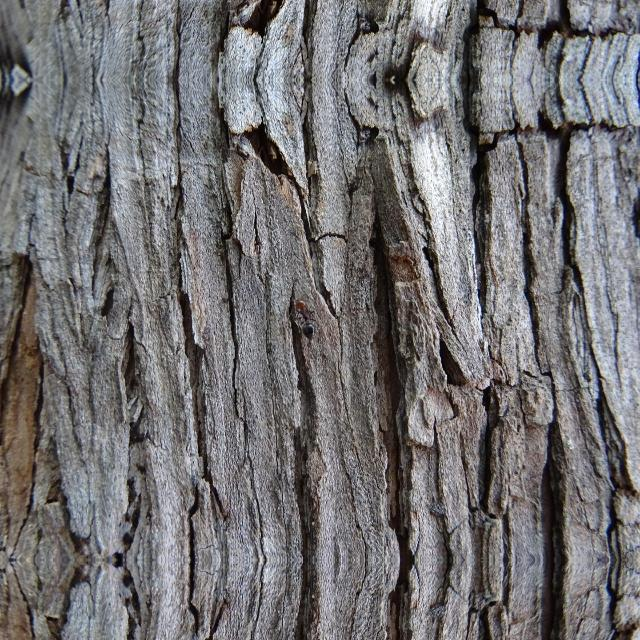Crematogaster: (293, 300, 319, 340)
